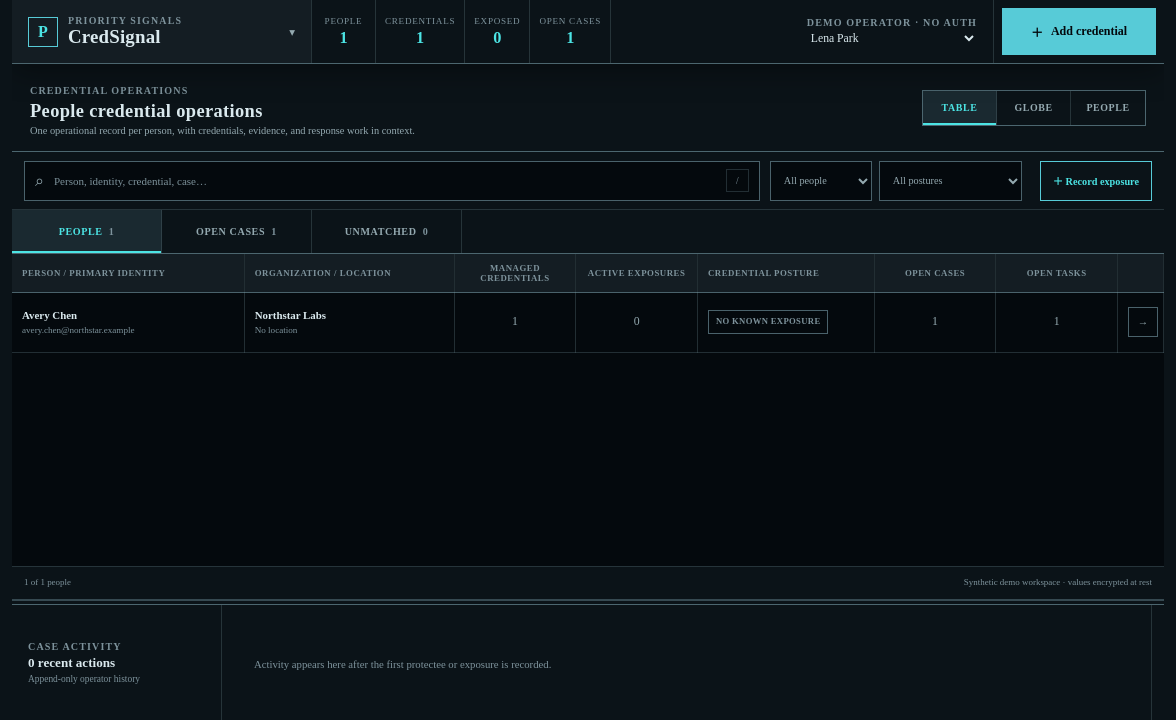
it: CredSignal inventory workspace › filters people and drills from a person into credential management
Expected: the heading "People credential operations" is shown, [30,100,263,120]
Expected: the text "Northstar Labs" is shown, [255,309,326,321]
Type "not-present" into the search field at x=385, y=180, box [52,174,718,188]
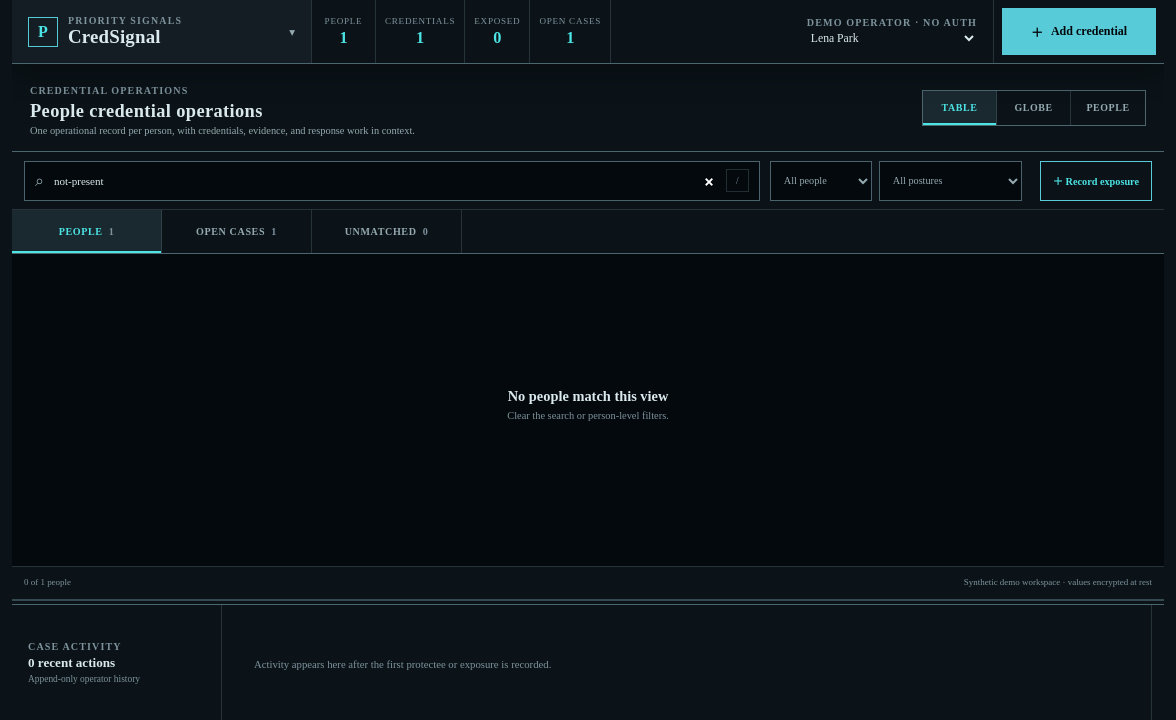
Expected: the text "No people match this view" is shown, [508,388,668,404]
Replace the text in the search field with "session cookie" at x=385, y=180, box [52,174,718,188]
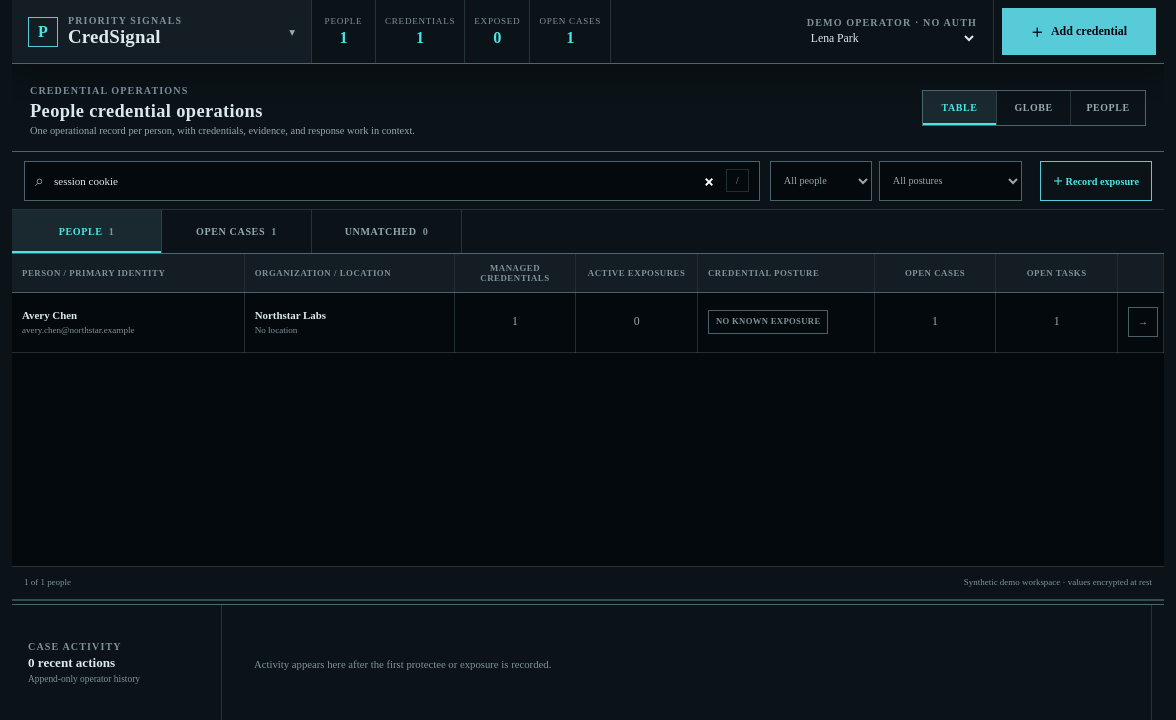
Expected: the text "Northstar Labs" is shown, [255,309,326,321]
Clear the search field at x=385, y=180, box [52,174,718,188]
Click the button named "Open credential operations for Avery Chen" at x=1143, y=322, box [1128,307,1158,337]
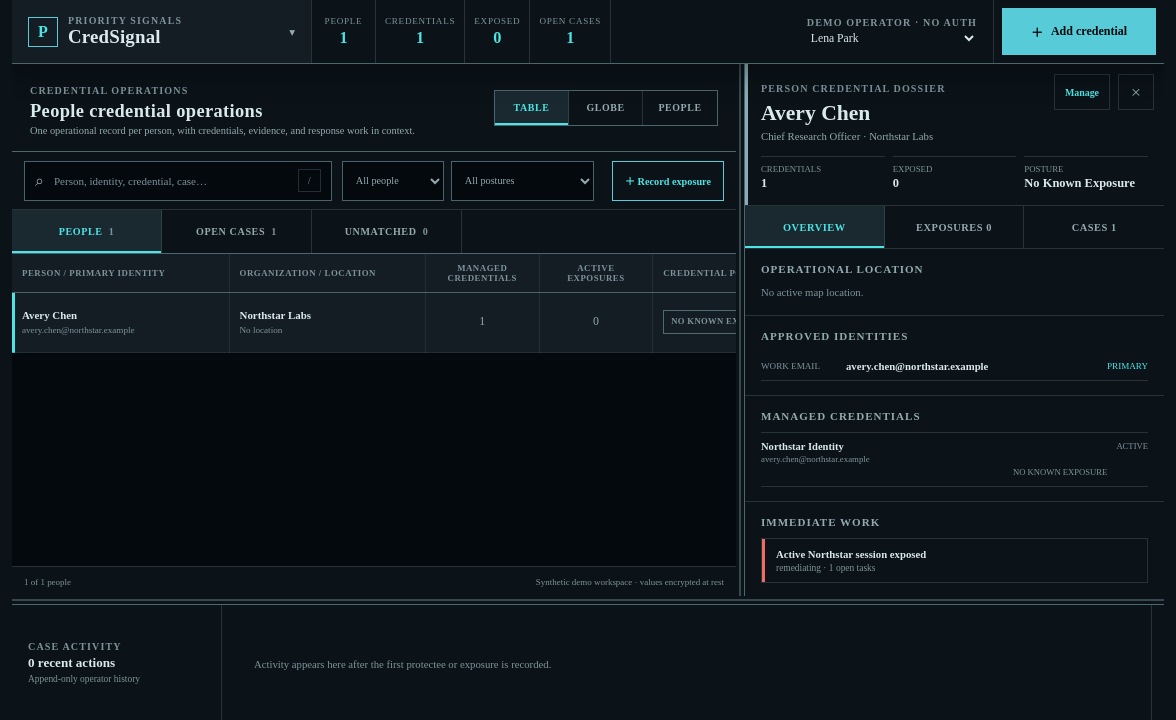
Expected: the element named "Avery Chen credential dossier" is shown, [744,64,1164,596]
Press ArrowLeft in the button named "Resize credential detail panel", box [736,64,744,596]
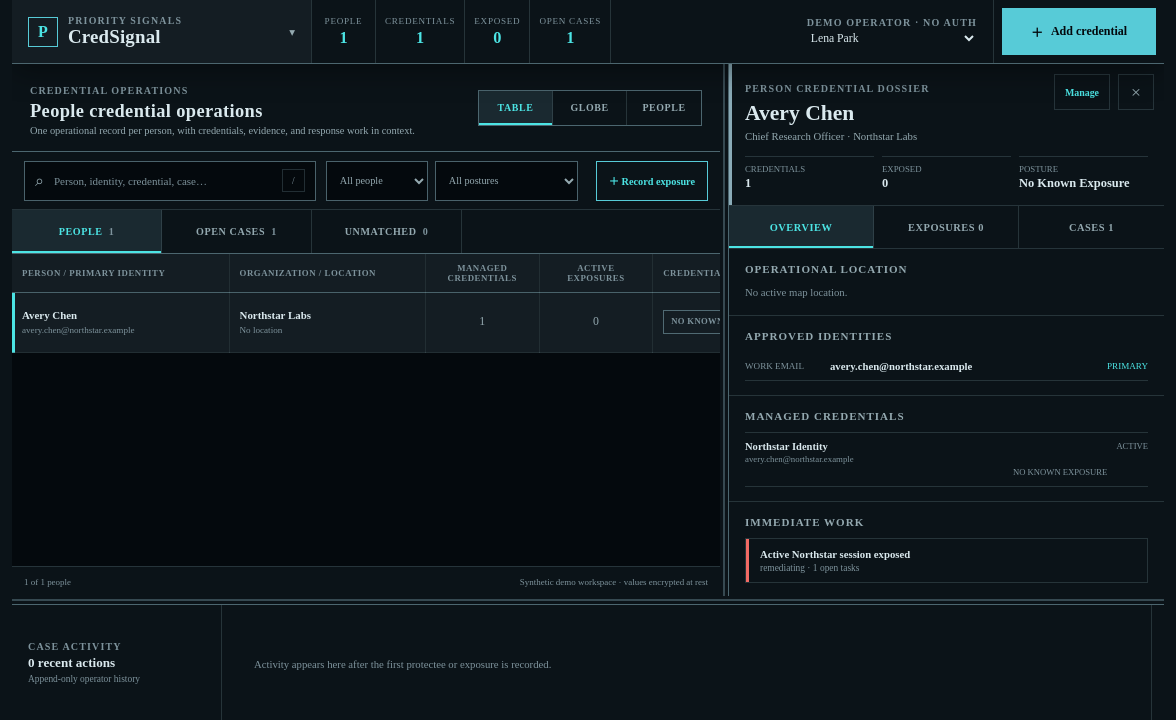
Expected: the number of rows is 2, [12,254,720,292]; [12,292,720,352]
Expected: the button "Avery Chen avery.chen@northstar.example" is shown, [22,308,218,337]
Click the button with aria-label "Open Northstar Identity credential for Avery Chen" at x=786, y=447, box [745,432,1148,486]
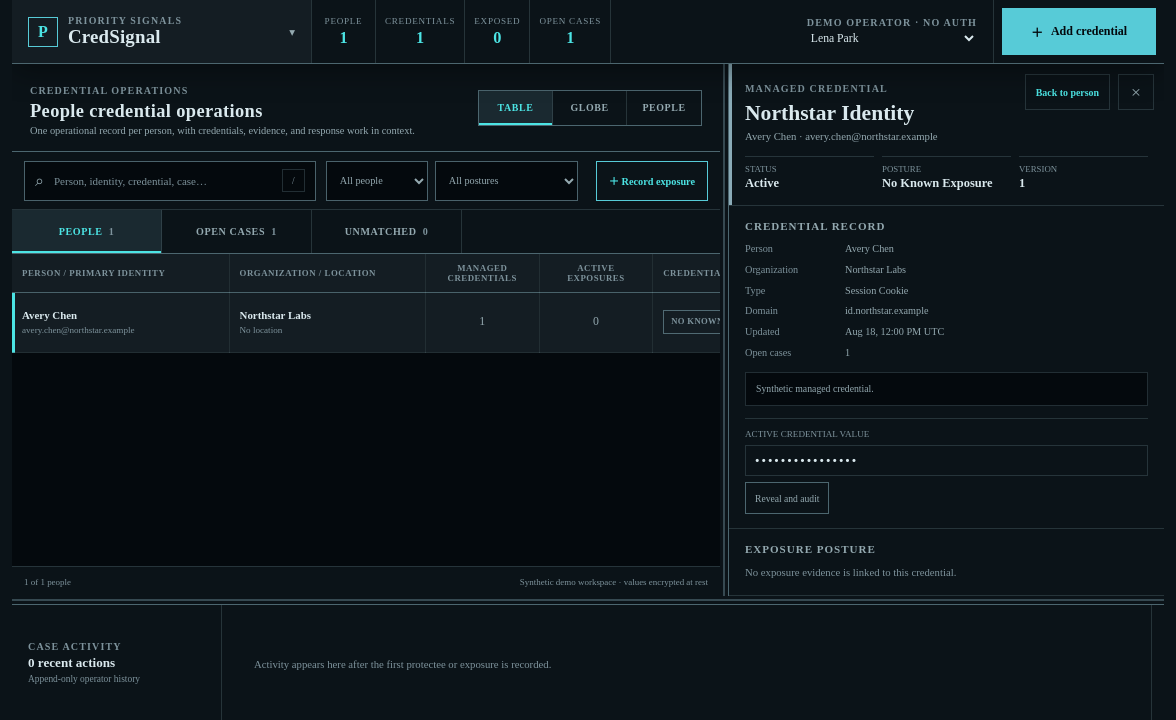
Expected: the element named "Credential record for avery.chen@northstar.example" is shown, [728,64,1164,596]
Expected: the text "Synthetic managed credential." is shown, [745,372,1148,406]
Expected: the text "••••••••••••••••" is shown, [745,445,1148,476]
Click the button "Back to person" at x=1067, y=92, box [1025,74,1110,110]
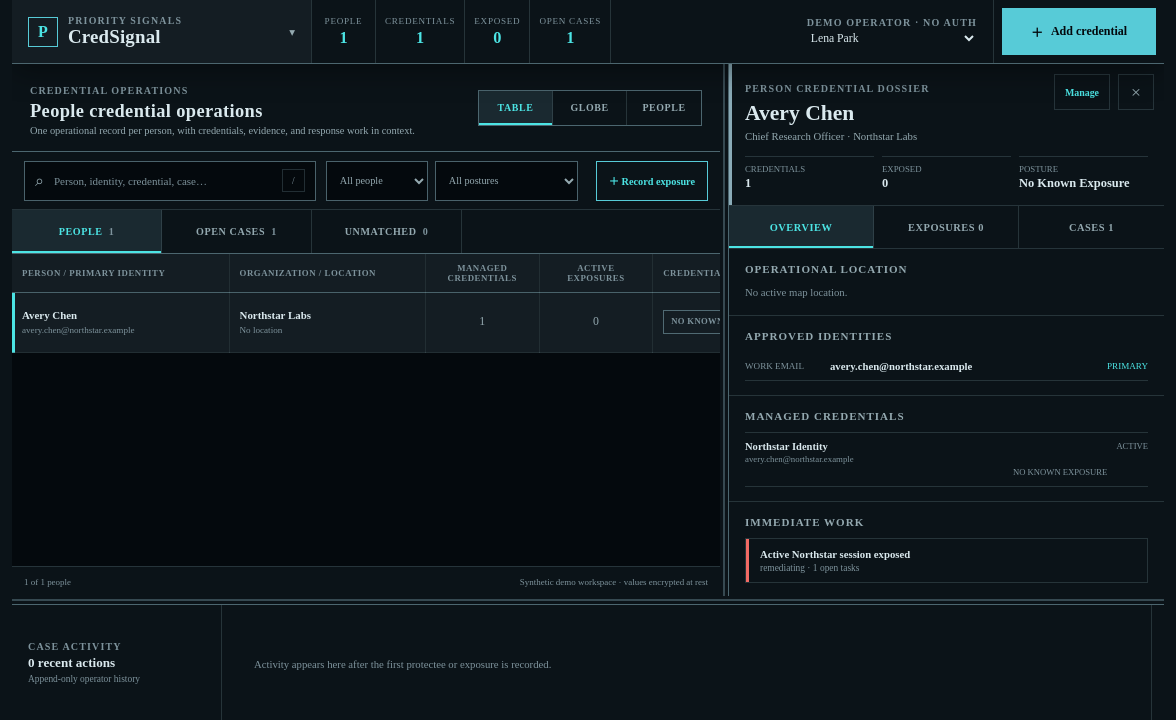
Expected: the element named "Avery Chen credential dossier" is shown, [728,64,1164,596]
